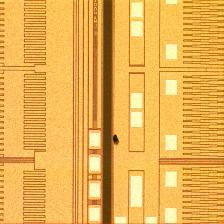PARTICLE: (108, 133, 124, 149)
